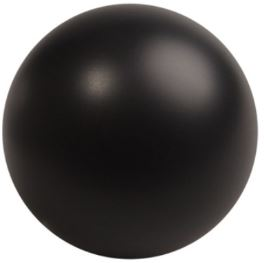Dead: (7, 4, 259, 260), (1, 1, 238, 223)
